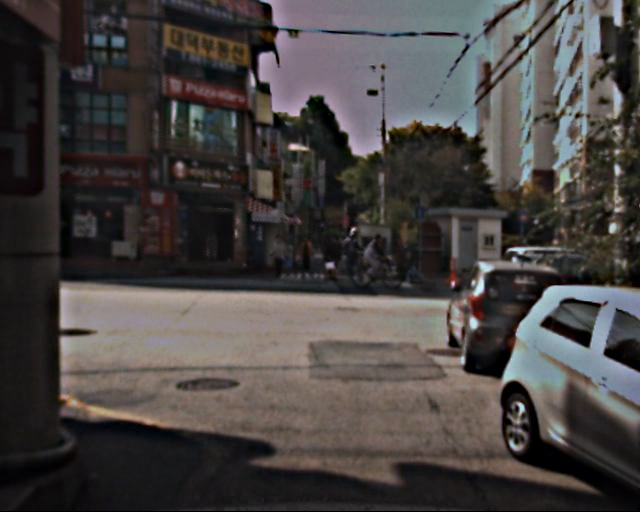person: (365, 233, 385, 282), (394, 237, 413, 284), (320, 235, 338, 280), (269, 234, 287, 278), (343, 236, 360, 277), (300, 236, 316, 274)
